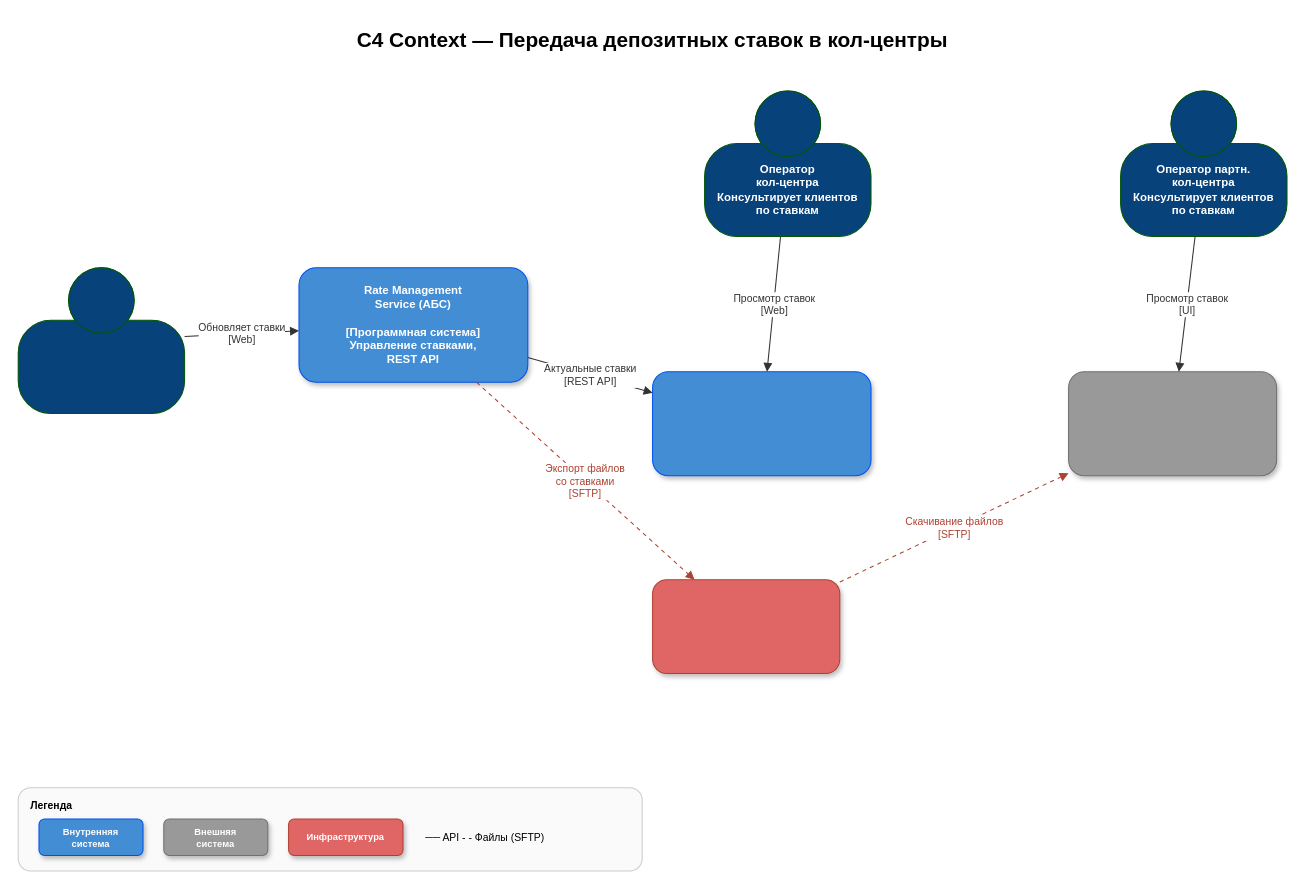
This 1305x889 diagram has some shape labels left out. Here are the shapes that lost their labels. From the top down, the centre of each, then its label:
At (101,340): "Менеджер бэк-офиса Обновляет ставки по депозитам".
At (762,425): "Система кол-центра [Программная система] Java Spring Boot, React.js, PostgreSQL".
At (1173,425): "Система партн. кол-центра [Внешняя система]".
At (746,628): "SFTP-сервер [Инфраструктура] Файловый обмен с партнёром".
